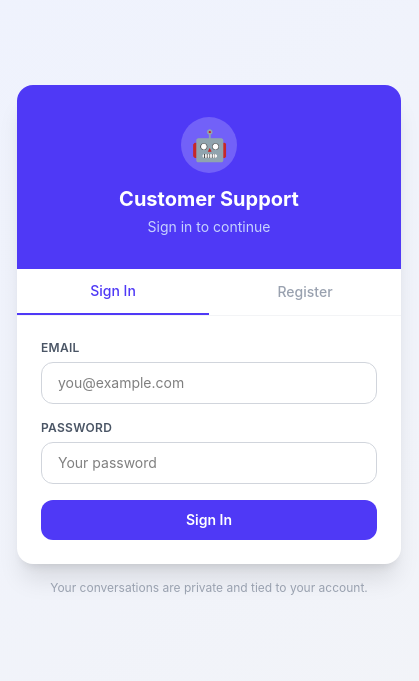
AuthForm › shows error for short password in register mode (Req 8.2)
// Switch to register
Click the button "Register" at (305, 292), box [209, 268, 401, 314]
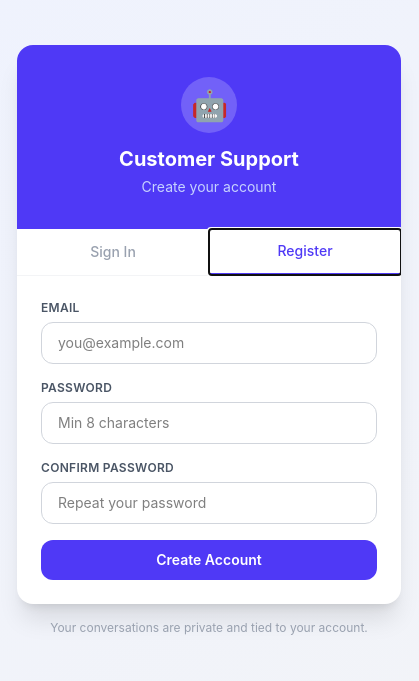
Type "user@example.com" into the field labelled "Email" at (209, 342), box [41, 322, 377, 364]
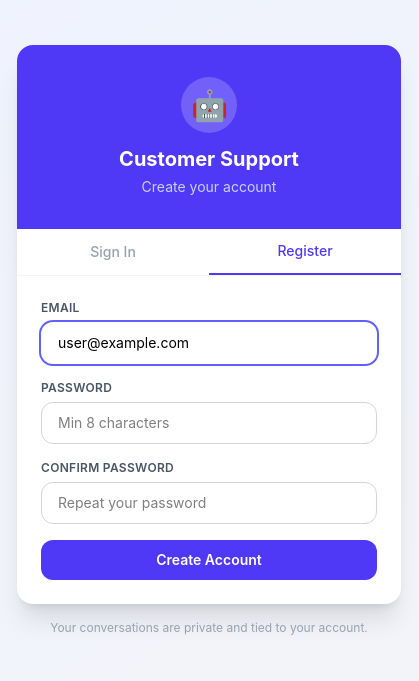
Type "short" into the password field labelled "Password" at (209, 422), box [41, 402, 377, 444]
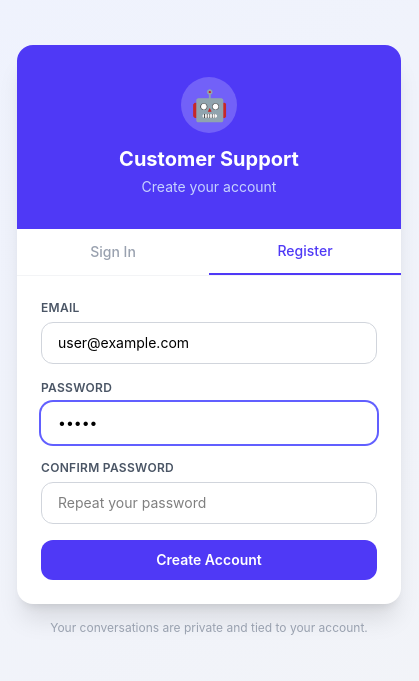
Type "short" into the password field labelled "Confirm Password" at (209, 502), box [41, 482, 377, 524]
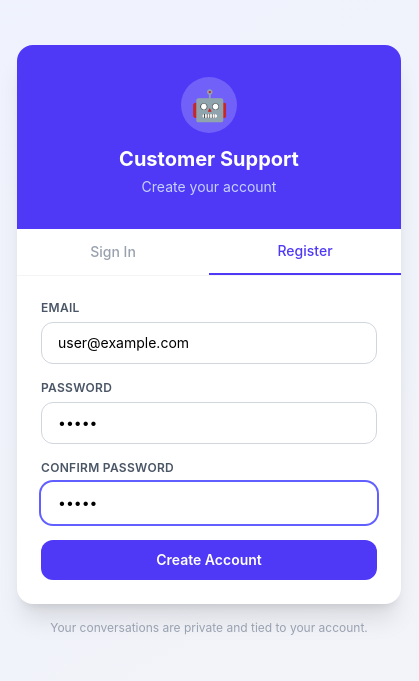
Click the button "Create Account" at (209, 560), box [41, 540, 377, 580]
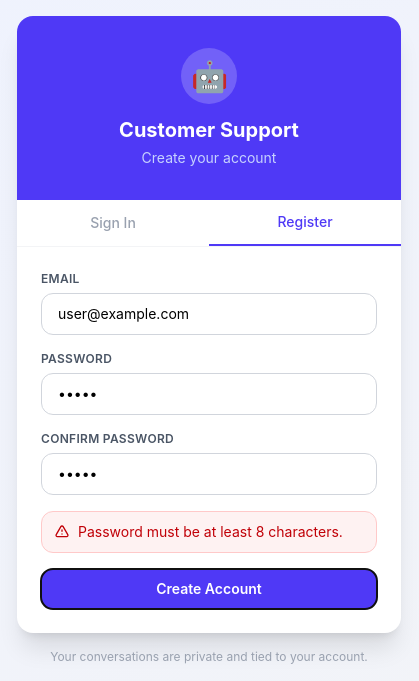
Result: the text "Password must be at least 8 characters." is shown at [41, 510, 377, 552]
